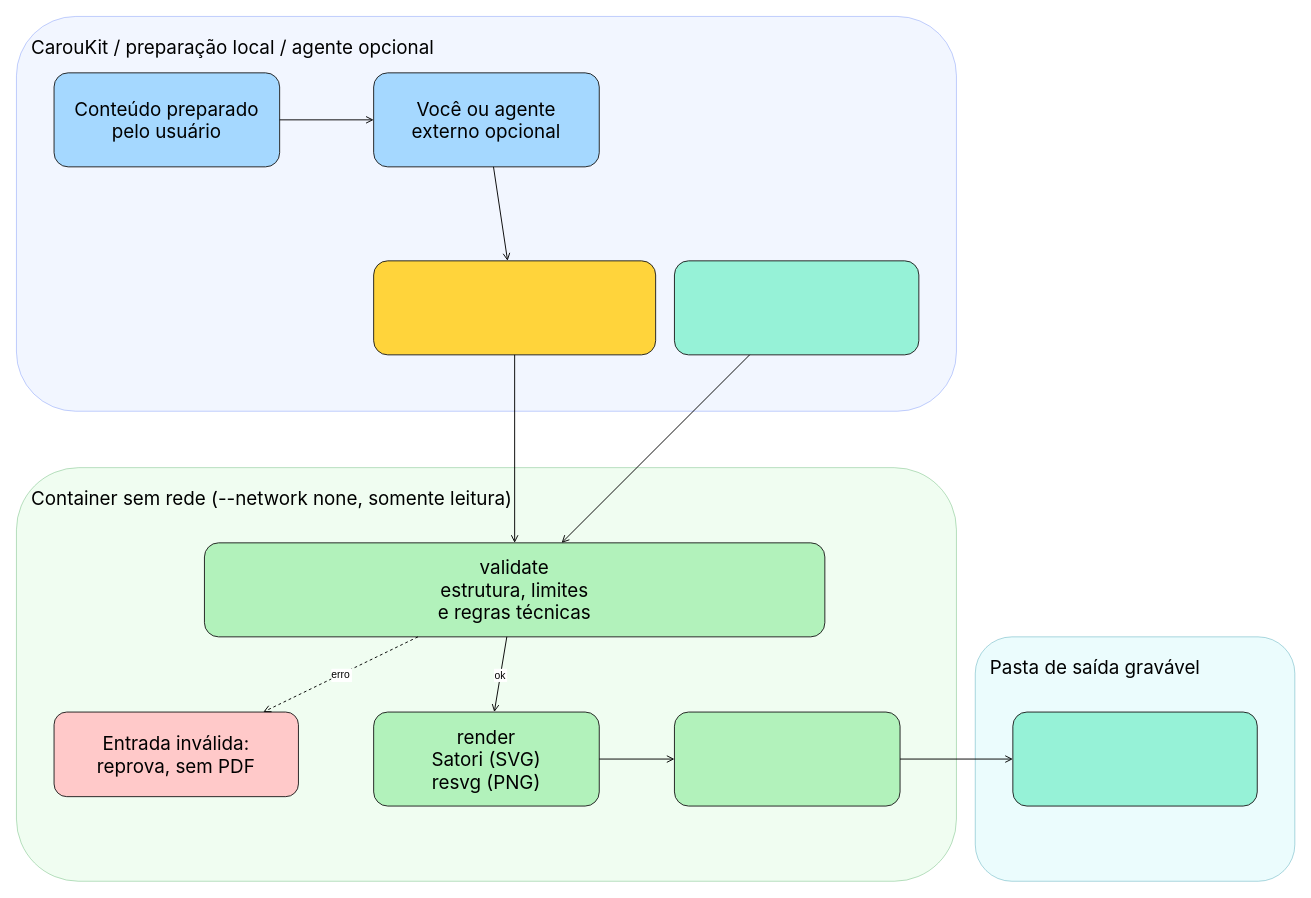
Some shapes in this 1311 by 898 pixel diagram are drawn without their labels. Here are the shapes that lost their labels. From the top down, the centre of each, then its label:
At point 514,307: "slides.json conteúdo + tema".
At point 796,307: "Preset de saída CLI / dimensões".
At point 787,758: "pdf monta o carrossel".
At point 1134,758: "out/ PNGs + carousel.pdf".
